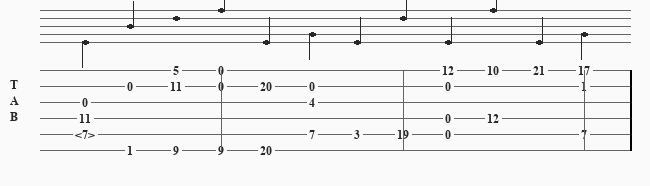0: (82, 96, 92, 109), (127, 80, 137, 93), (218, 80, 228, 93), (218, 64, 228, 77), (309, 80, 319, 93), (445, 112, 455, 125), (445, 128, 455, 141), (445, 80, 455, 93)
1: (127, 144, 137, 157), (581, 80, 591, 93)
10: (487, 64, 503, 77)
11: (79, 112, 95, 125), (170, 80, 186, 93)
12: (442, 64, 458, 77), (487, 112, 503, 125)
17: (578, 64, 594, 77)
19: (397, 128, 413, 141)
20: (260, 144, 276, 157), (260, 80, 276, 93)
21: (533, 64, 549, 77)
3: (354, 128, 364, 141)
4: (309, 96, 319, 109)
5: (173, 64, 183, 77)
7: (309, 128, 319, 141), (581, 128, 591, 141)
9: (173, 144, 183, 157), (218, 144, 228, 157)
harmonic: (75, 128, 99, 141)
